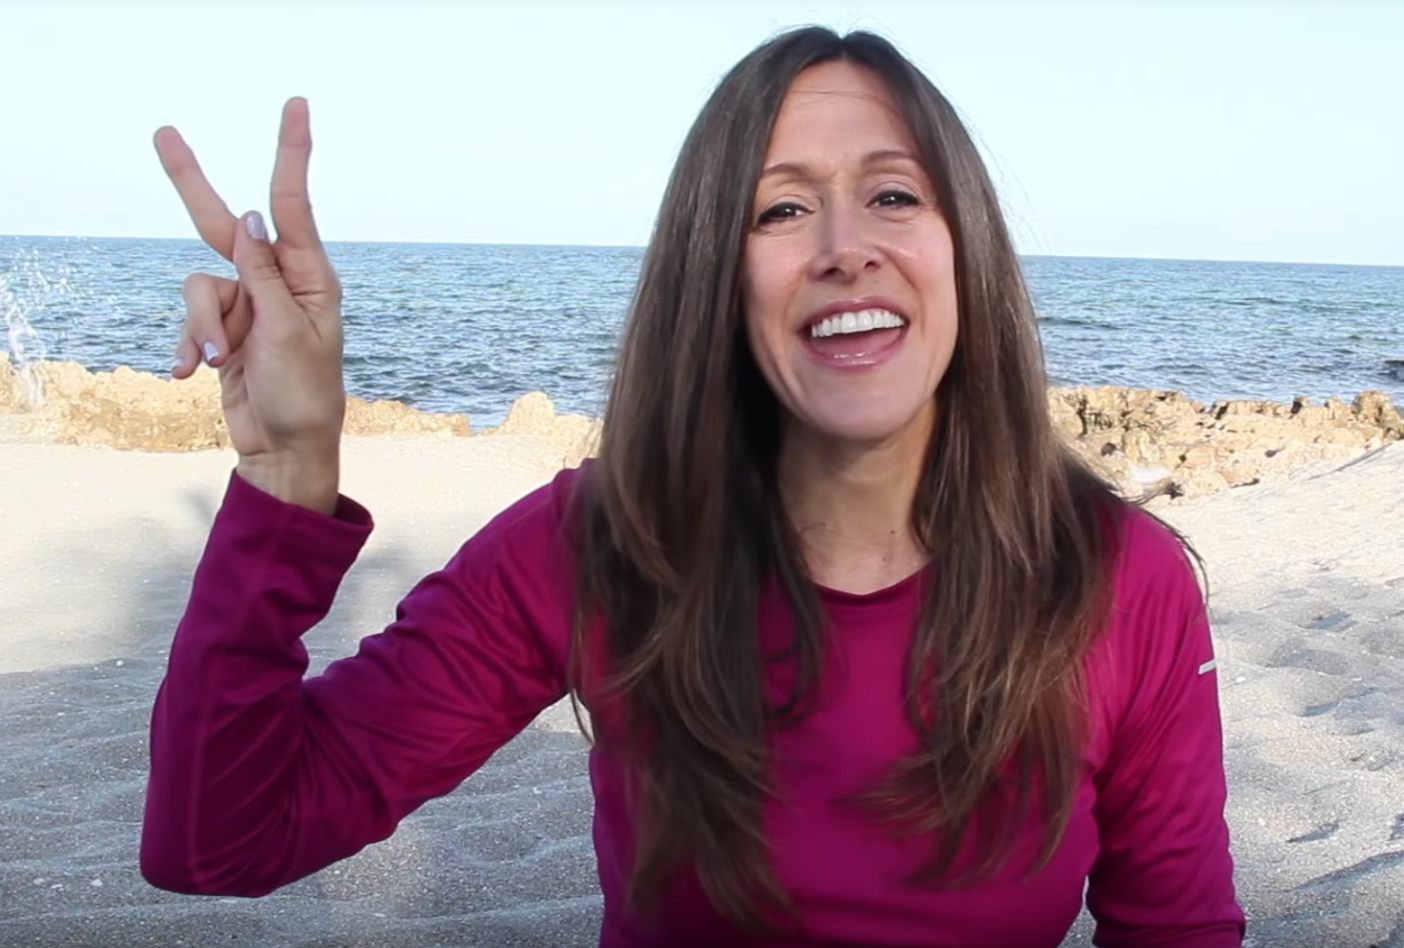k: (123, 93, 416, 499)
